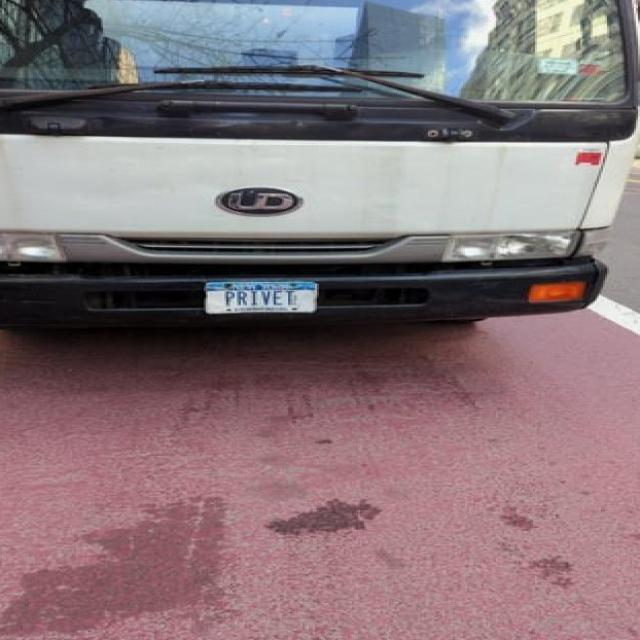license-plate: (209, 285, 316, 312)
